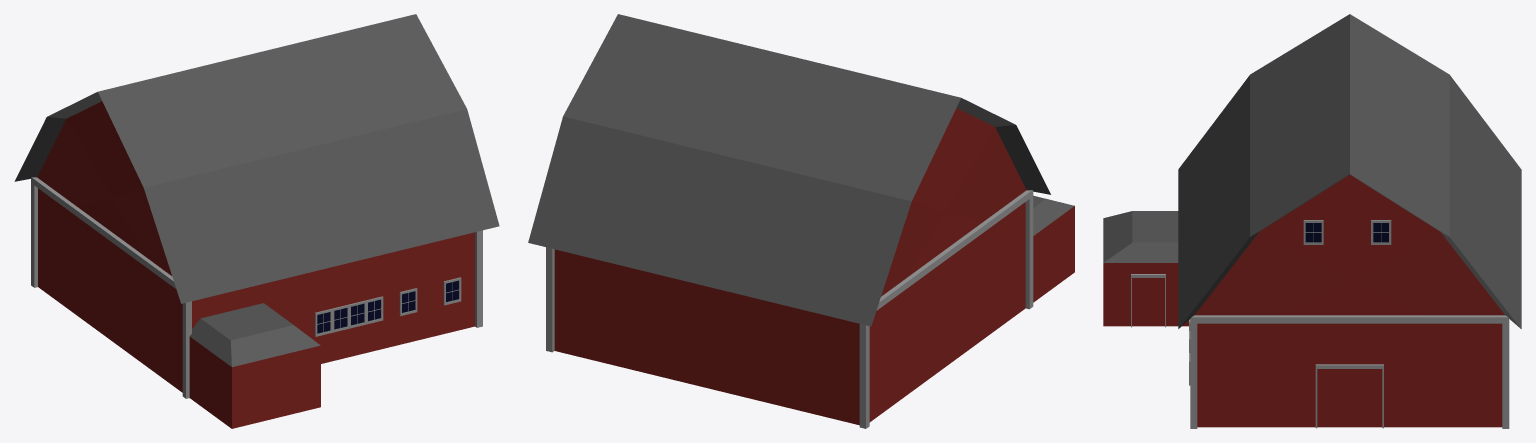
The model's file is Barn.fbx.
3 renders of one model, left to right at view 1: azimuth 30°, elevation 25°; view 2: azimuth 150°, elevation 25°; view 3: azimuth 270°, elevation 25°, orthographic. The views are drawn at different scales.
Visible parts, largest first — view 1: Cube.008; view 2: Cube.008; view 3: Cube.008.
Part boxes in pixels (x1,y1,x2,y2): Cube.008: [14, 14, 499, 428]; Cube.008: [528, 14, 1074, 428]; Cube.008: [1103, 14, 1521, 428].
Size of the model in its own units: 2845 by 2127 by 3095.
